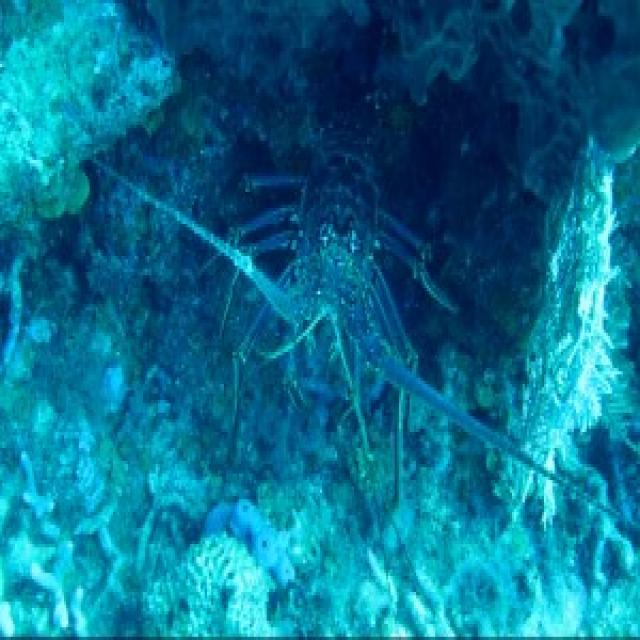lobsters: (152, 182, 562, 571)
